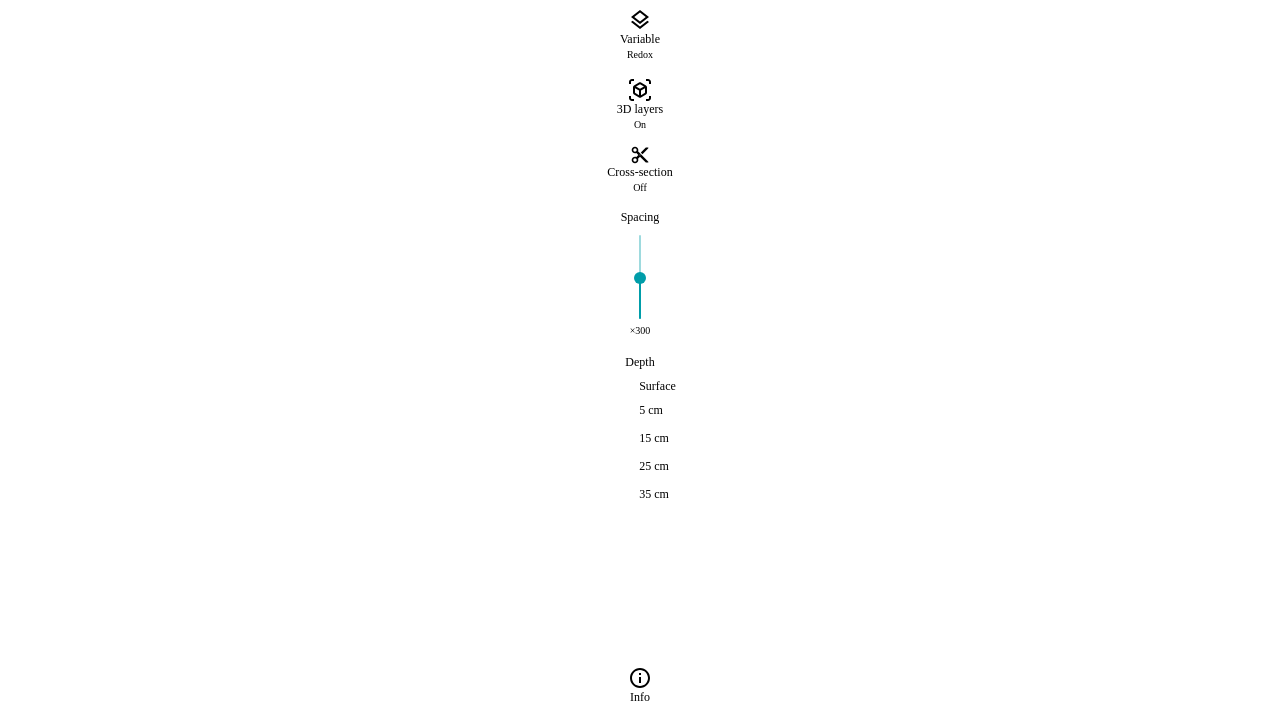
SidePanel cross-section › opens under the 3D layers button in 3D, off until pressed
Click the button "Cross-section Off" at (640, 170), box [0,140,1279,200]
(page scrolled)
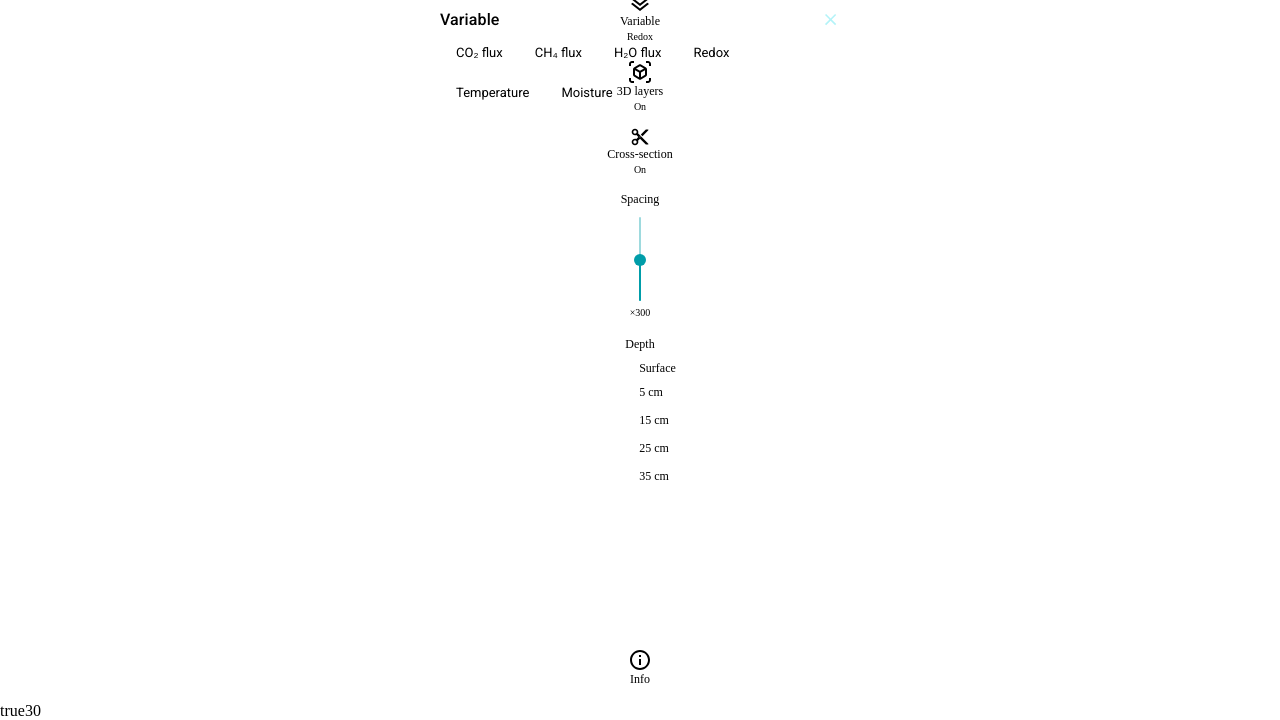
Check: the button "Cross-section On" is shown, box [0,122,1279,182]
Check: the text with test id "cross-section" reads "true", box [0,702,25,719]
